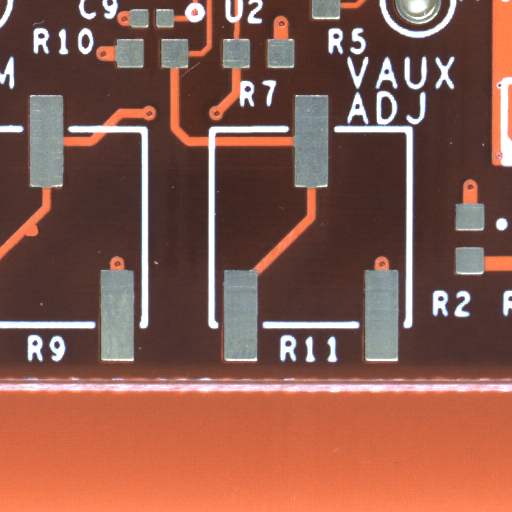Spur: (30, 231, 45, 242)
